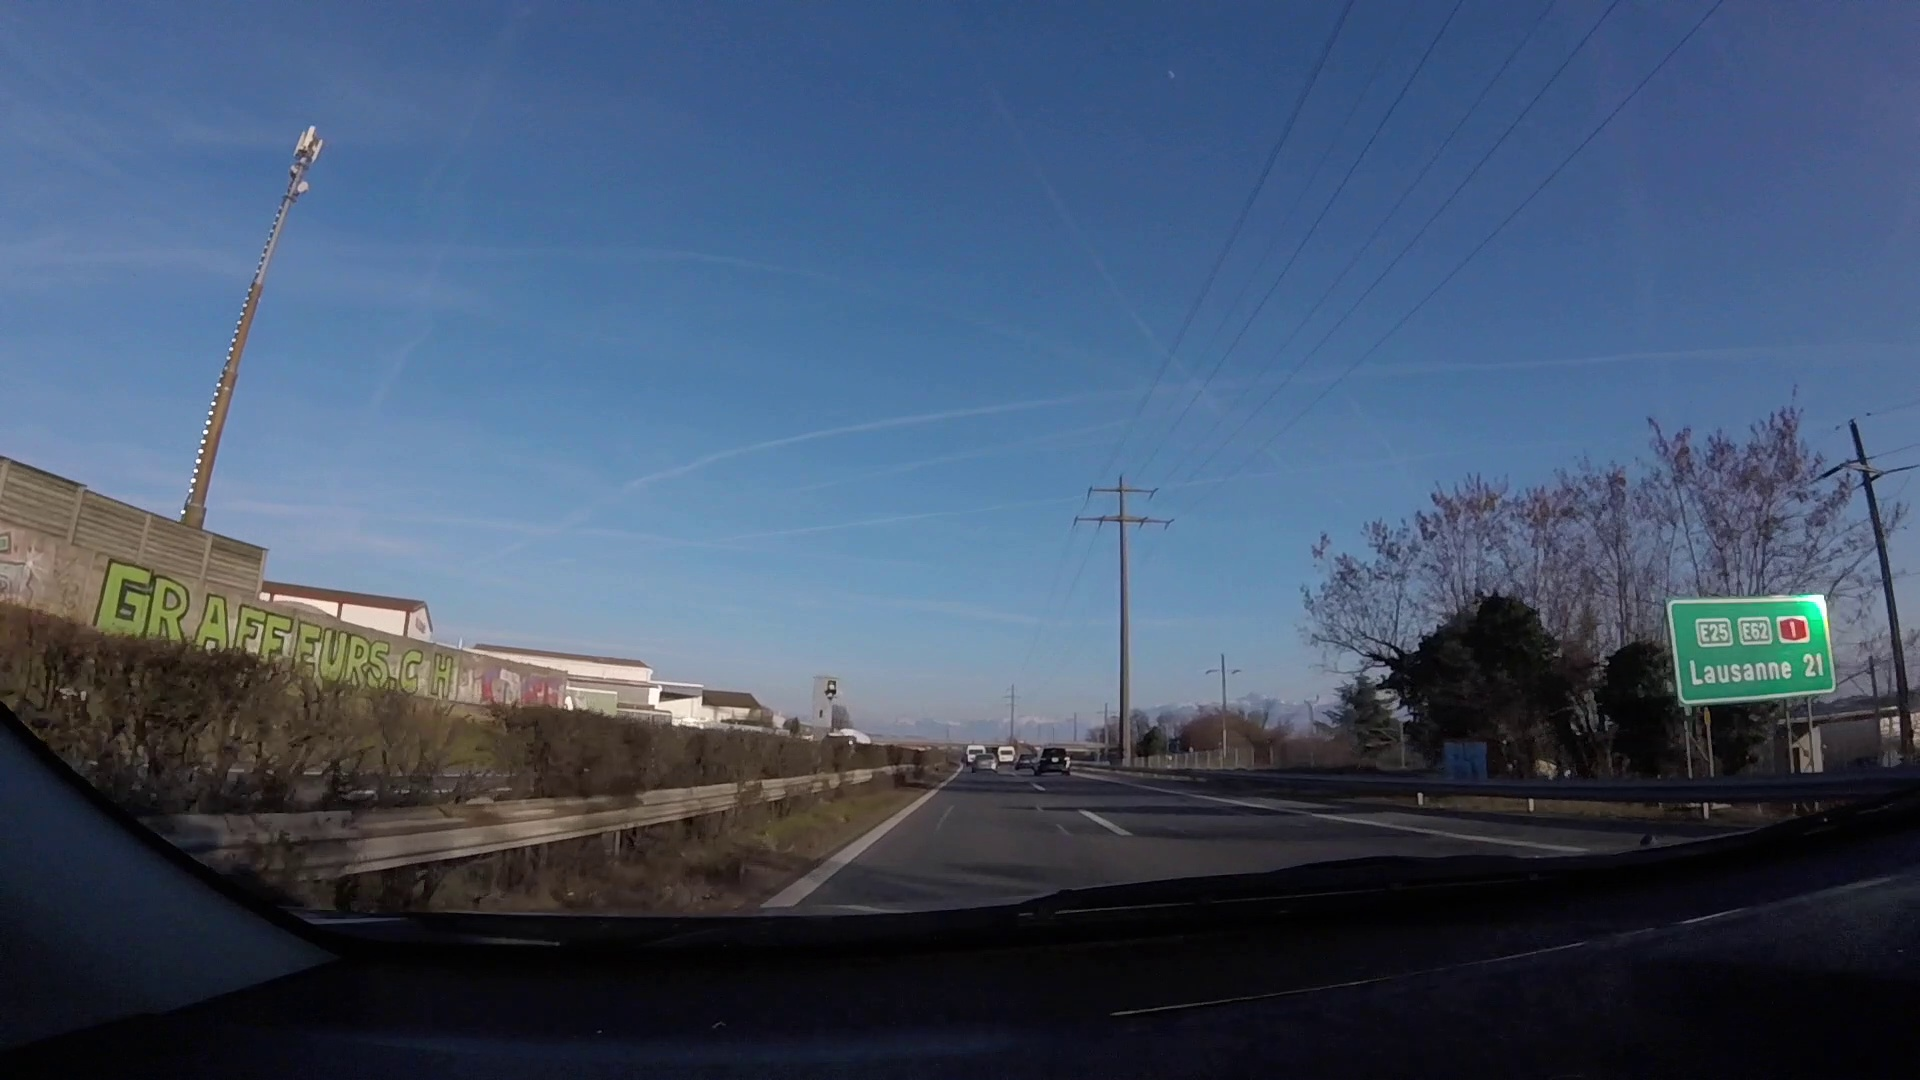radar: (808, 673, 844, 746)
